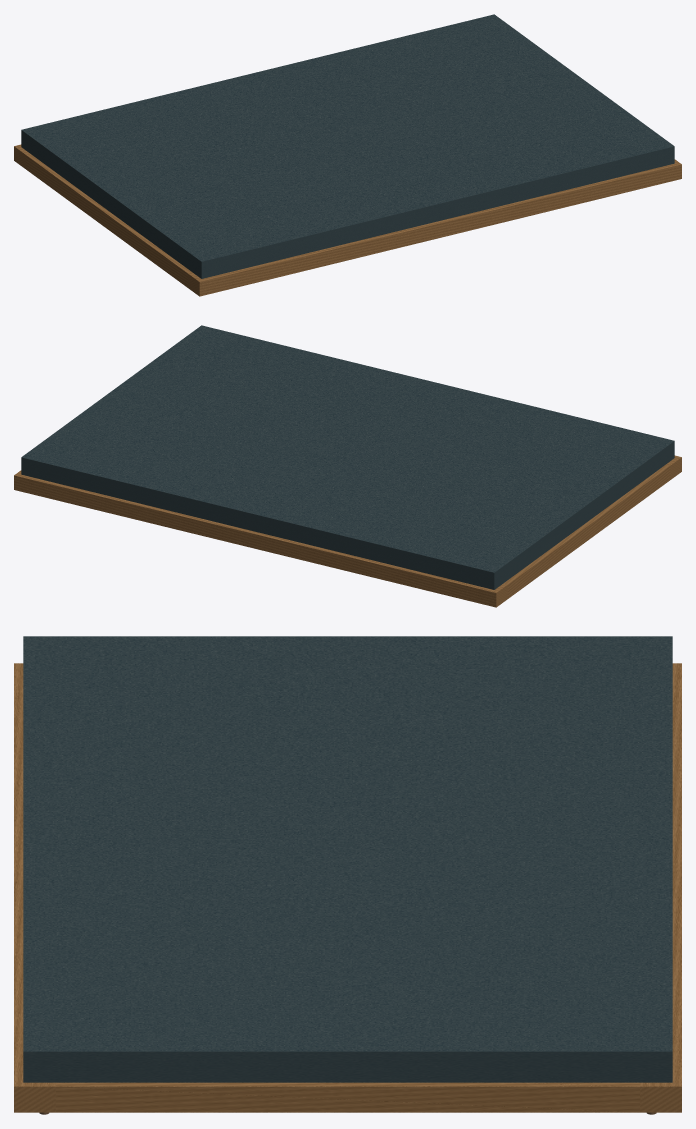
File: PROJECT_Z_ES26_District_Emergency_Bulletin_Board.glb
3 views of the same model, one above another, from view 1: azimuth 30°, elevation 25°; view 2: azimuth 150°, elevation 25°; view 3: azimuth 270°, elevation 25° (orthographic). The views are drawn at different scales.
Parts seen in each view (by area): view 1: District_Emergency_Bulletin_Board__CORK_BACKBOARD, District_Emergency_Bulletin_Board__FRAME_TOP, District_Emergency_Bulletin_Board__FRAME_LEFT; view 2: District_Emergency_Bulletin_Board__CORK_BACKBOARD, District_Emergency_Bulletin_Board__FRAME_BOTTOM, District_Emergency_Bulletin_Board__FRAME_LEFT; view 3: District_Emergency_Bulletin_Board__CORK_BACKBOARD, District_Emergency_Bulletin_Board__FRAME_RIGHT, District_Emergency_Bulletin_Board__FRAME_BOTTOM, District_Emergency_Bulletin_Board__FRAME_TOP.
Boxes of the visible parts, box(x1,y1,x2,y2) form: District_Emergency_Bulletin_Board__CORK_BACKBOARD: box(21, 14, 674, 278); District_Emergency_Bulletin_Board__FRAME_TOP: box(188, 159, 681, 296); District_Emergency_Bulletin_Board__FRAME_LEFT: box(25, 153, 192, 287); District_Emergency_Bulletin_Board__CORK_BACKBOARD: box(21, 325, 674, 589); District_Emergency_Bulletin_Board__FRAME_BOTTOM: box(14, 470, 507, 607); District_Emergency_Bulletin_Board__FRAME_LEFT: box(503, 464, 670, 598); District_Emergency_Bulletin_Board__CORK_BACKBOARD: box(23, 636, 672, 1082); District_Emergency_Bulletin_Board__FRAME_RIGHT: box(55, 1082, 640, 1112); District_Emergency_Bulletin_Board__FRAME_BOTTOM: box(640, 663, 681, 1112); District_Emergency_Bulletin_Board__FRAME_TOP: box(14, 663, 55, 1112).
Size of the model in its own units: 1.32 by 0.1185 by 0.88.
Materials: 2 (2 with a texture image).
